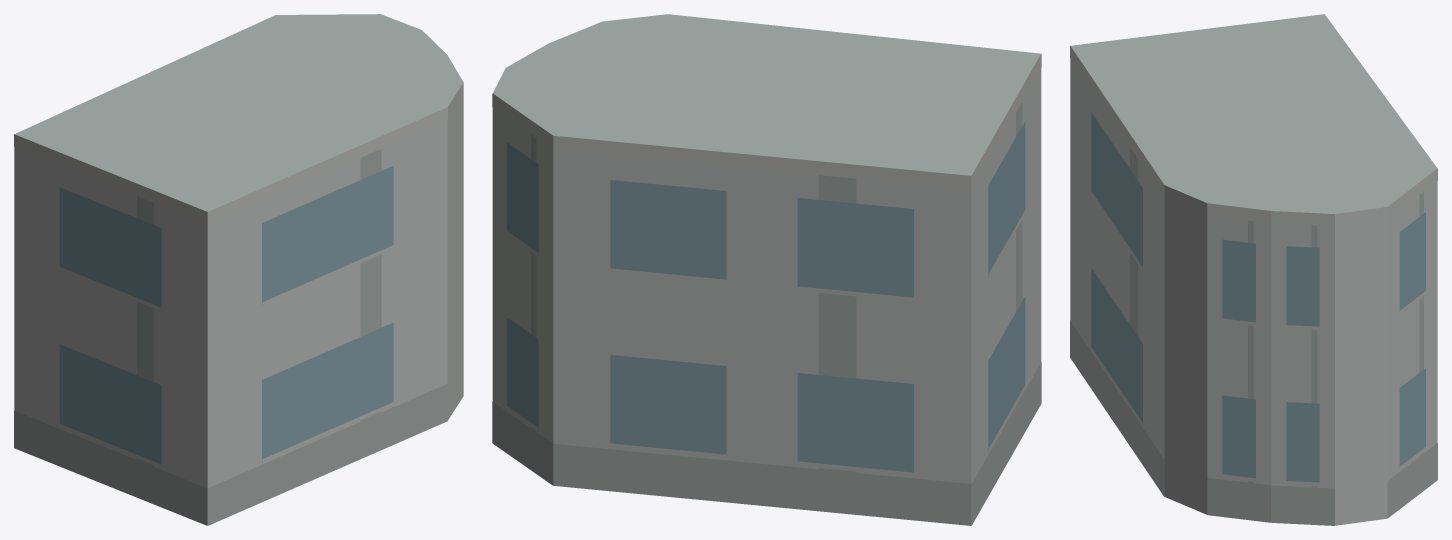
The model's file is survey-upis-32696814.glb.
The picture shows the model from 3 angles, left to right: view 1: azimuth 30°, elevation 25°; view 2: azimuth 150°, elevation 25°; view 3: azimuth 270°, elevation 25°; orthographic projection. The views are drawn at different scales.
Visible parts, largest first — view 1: survey-upis-32696814.tmp; view 2: survey-upis-32696814.tmp; view 3: survey-upis-32696814.tmp.
Part boxes in pixels (bbox=[...]): survey-upis-32696814.tmp: bbox=[14, 14, 463, 525]; survey-upis-32696814.tmp: bbox=[492, 14, 1041, 525]; survey-upis-32696814.tmp: bbox=[1070, 14, 1437, 525].
Bounding box in the file's own units: 8.4 × 6.1 × 6.52.
